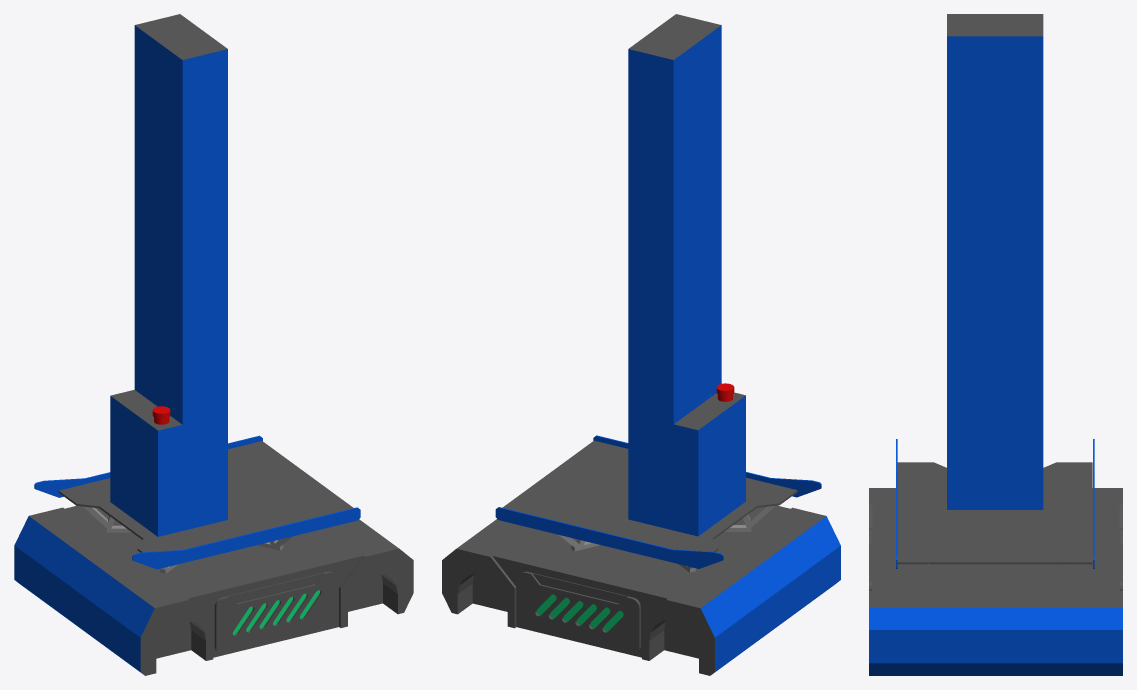
The picture shows the model from 3 angles, left to right: view 1: azimuth 30°, elevation 25°; view 2: azimuth 150°, elevation 25°; view 3: azimuth 270°, elevation 25°; orthographic projection.
Visible parts, largest first — view 1: 脊柱蒙皮, 前挡板, 后挡板, 简化-平台翼L, 简化-平台翼L.001, 指示灯, 支架; view 2: 脊柱蒙皮, 前挡板, 后挡板, 简化-平台翼L.001, 指示灯, 简化-平台翼L, 支架; view 3: 脊柱蒙皮, 前挡板, 升降底盘.001.
Part boxes in pixels (<box>): 脊柱蒙皮: <box>110,25,227,536</box>; 前挡板: <box>29,14,413,675</box>; 后挡板: <box>14,516,154,673</box>; 简化-平台翼L: <box>132,507,360,569</box>; 简化-平台翼L.001: <box>34,435,262,497</box>; 指示灯: <box>232,590,319,634</box>; 支架: <box>83,506,292,573</box>; 脊柱蒙皮: <box>628,25,745,536</box>; 前挡板: <box>442,14,825,675</box>; 后挡板: <box>700,516,840,674</box>; 简化-平台翼L.001: <box>495,507,723,568</box>; 指示灯: <box>536,594,623,631</box>; 简化-平台翼L: <box>593,435,821,497</box>; 支架: <box>559,506,774,572</box>; 脊柱蒙皮: <box>947,36,1043,509</box>; 前挡板: <box>869,14,1122,607</box>; 升降底盘.001: <box>869,607,1122,675</box>.
Size of the model in its own units: 0.57 by 0.456 by 1.13.
